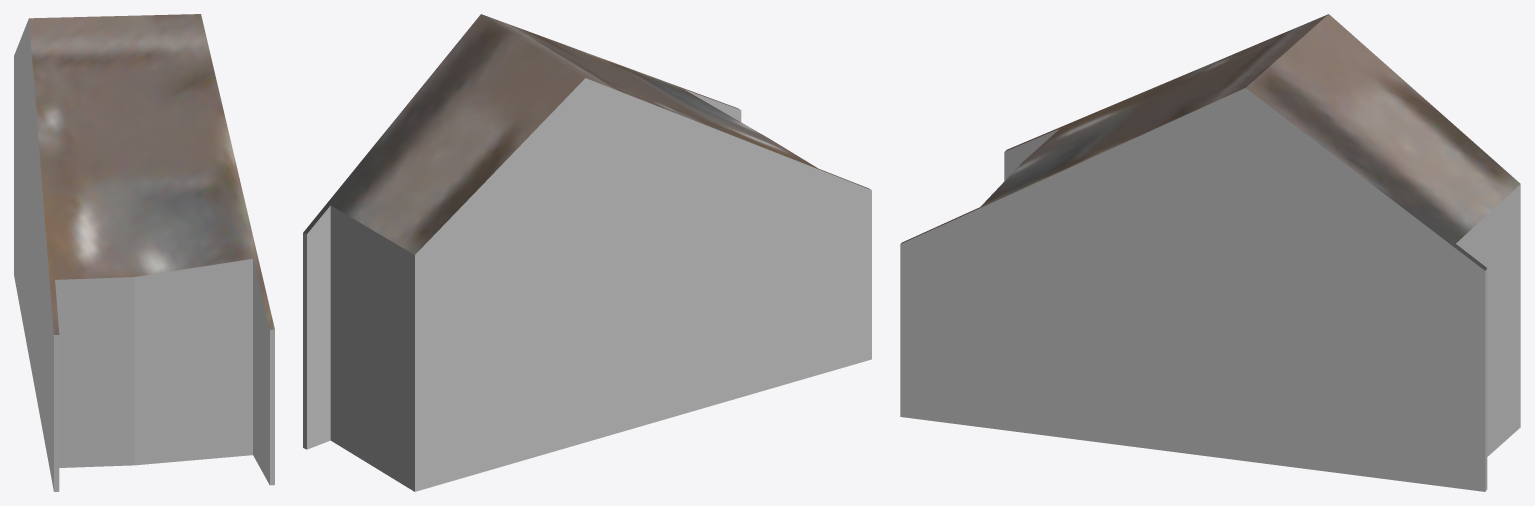
Rendered from DEBW_0010007TvlO.gltf.
3 renders of one model, left to right at view 1: azimuth 30°, elevation 25°; view 2: azimuth 150°, elevation 25°; view 3: azimuth 270°, elevation 25°, orthographic. The views are drawn at different scales.
Parts seen in each view (by area): view 1: Z_UP; view 2: Z_UP; view 3: Z_UP.
Boxes of the visible parts, left/top/right/bottom form: Z_UP: left=14, top=14, right=274, bottom=491; Z_UP: left=303, top=14, right=871, bottom=491; Z_UP: left=900, top=14, right=1520, bottom=491.
Size of the model in its own units: 10.91 by 11.31 by 16.98.
Materials: 2 (1 with a texture image).
